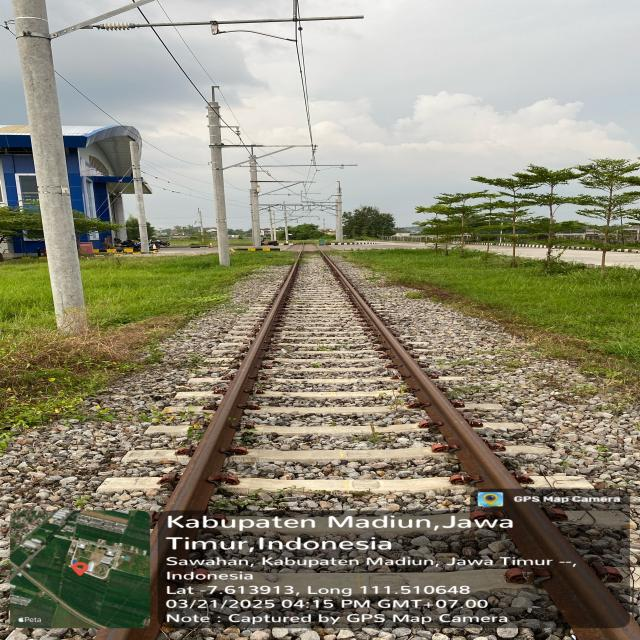rail-detection: (324, 256, 640, 640), (151, 263, 297, 629)
